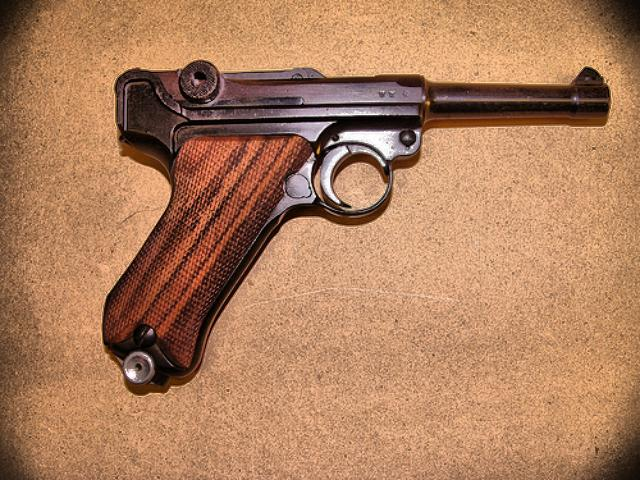pistol: (99, 58, 611, 384)
